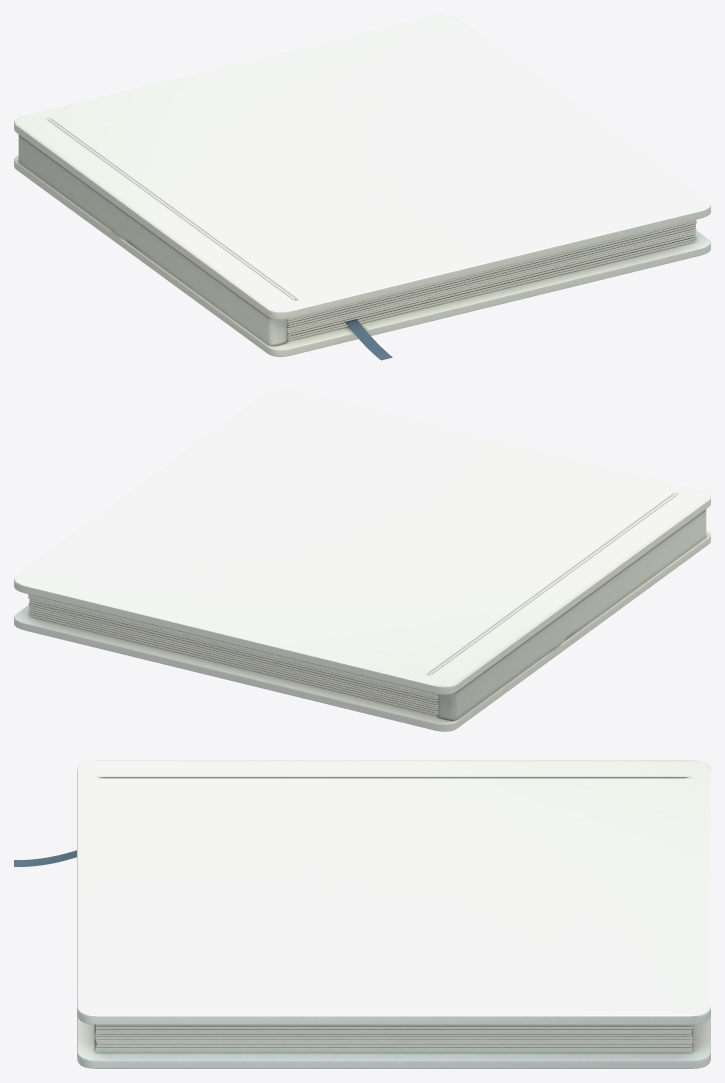
The model's file is writing-baked.glb.
3 renders of one model, top to bottom at view 1: azimuth 30°, elevation 25°; view 2: azimuth 150°, elevation 25°; view 3: azimuth 270°, elevation 25°, orthographic. The views are drawn at different scales.
Visible parts, largest first — view 1: Rounded upper cloth cover, Rounded lower cloth cover, Rounded binding spine, Bound paper gathering 1, Bound paper gathering 6, Bound paper gathering 0, Bound paper gathering 7, Bound paper gathering 2, Bound paper gathering 5, Bound paper gathering 8, Bound paper gathering 4, Bound paper gathering 3 (+3 smaller); view 2: Rounded upper cloth cover, Rounded lower cloth cover, Rounded binding spine, Bound paper gathering 5, Bound paper gathering 6, Bound paper gathering 4, Bound paper gathering 0, Bound paper gathering 1, Bound paper gathering 9, Bound paper gathering 2, Bound paper gathering 3, Bound paper gathering 7 (+2 smaller); view 3: Rounded upper cloth cover, Rounded lower cloth cover, Bound paper gathering 5, Bound paper gathering 9, Bound paper gathering 0, Bound paper gathering 1, Bound paper gathering 6, Bound paper gathering 4, Bound paper gathering 2, Bound paper gathering 3, Bound paper gathering 8, Bound paper gathering 10 (+2 smaller).
Part boxes in pixels (<box>): Rounded upper cloth cover: <box>14,14,710,319</box>; Rounded lower cloth cover: <box>14,155,710,356</box>; Rounded binding spine: <box>18,134,286,345</box>; Bound paper gathering 1: <box>287,236,696,338</box>; Bound paper gathering 6: <box>287,226,695,327</box>; Bound paper gathering 0: <box>287,239,696,340</box>; Bound paper gathering 7: <box>287,223,695,324</box>; Bound paper gathering 2: <box>287,234,696,335</box>; Bound paper gathering 5: <box>287,228,696,329</box>; Bound paper gathering 8: <box>287,221,696,322</box>; Bound paper gathering 4: <box>287,230,696,331</box>; Bound paper gathering 3: <box>287,232,695,333</box>; Rounded upper cloth cover: <box>14,389,710,694</box>; Rounded lower cloth cover: <box>14,530,710,731</box>; Rounded binding spine: <box>438,509,706,720</box>; Bound paper gathering 5: <box>28,602,437,704</box>; Bound paper gathering 6: <box>29,600,437,701</box>; Bound paper gathering 4: <box>28,605,437,706</box>; Bound paper gathering 0: <box>28,614,437,715</box>; Bound paper gathering 1: <box>28,611,437,712</box>; Bound paper gathering 9: <box>28,594,437,695</box>; Bound paper gathering 2: <box>28,609,437,710</box>; Bound paper gathering 3: <box>29,607,437,708</box>; Bound paper gathering 7: <box>29,598,437,699</box>; Rounded upper cloth cover: <box>77,760,710,1024</box>; Rounded lower cloth cover: <box>77,1014,710,1068</box>; Bound paper gathering 5: <box>95,1029,692,1039</box>; Bound paper gathering 9: <box>96,1025,692,1028</box>; Bound paper gathering 0: <box>95,1025,692,1052</box>; Bound paper gathering 1: <box>95,1039,692,1049</box>; Bound paper gathering 6: <box>95,1024,691,1036</box>; Bound paper gathering 4: <box>96,1039,692,1041</box>; Bound paper gathering 2: <box>96,1042,691,1046</box>; Bound paper gathering 3: <box>96,1042,692,1044</box>; Bound paper gathering 8: <box>96,1029,691,1031</box>; Bound paper gathering 10: <box>96,1024,692,1025</box>.
Bounding box in the file's own units: 2.75 × 0.2747 × 3.16.
Materials: 1 (1 with a texture image).
